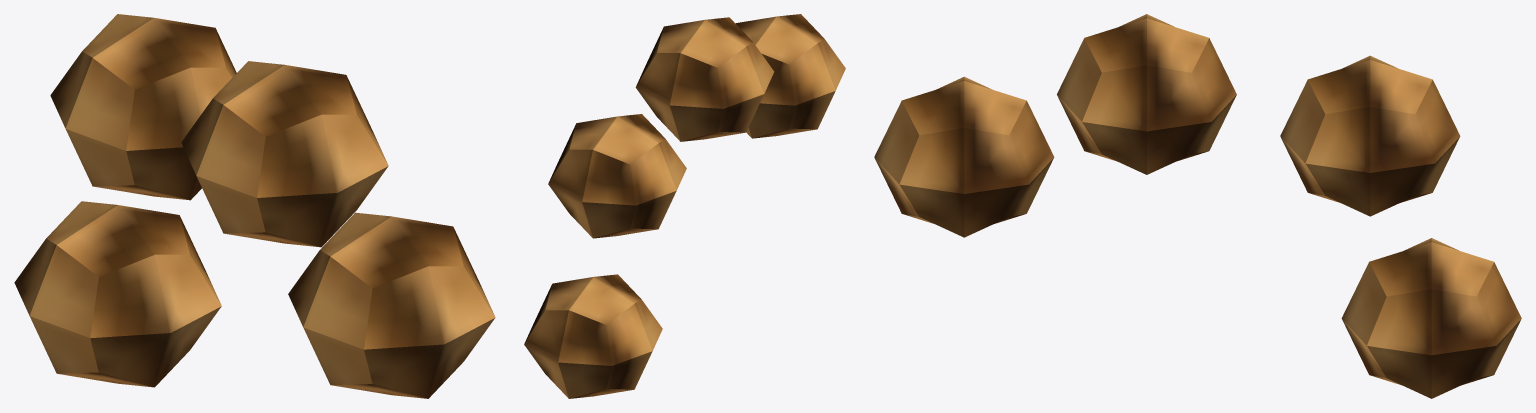
File: hair_nok_03.dae
The picture shows the model from 3 angles, left to right: view 1: azimuth 30°, elevation 25°; view 2: azimuth 150°, elevation 25°; view 3: azimuth 270°, elevation 25°; orthographic projection. The views are drawn at different scales.
Visible parts, largest first — view 1: a_hair_nok_03; view 2: a_hair_nok_03; view 3: a_hair_nok_03.
Boxes of the visible parts, <box> form: a_hair_nok_03: <box>14,14,495,398</box>; a_hair_nok_03: <box>524,14,845,398</box>; a_hair_nok_03: <box>874,14,1521,398</box>.
Size of the model in its own units: 0.2251 by 0.8343 by 0.5353.
